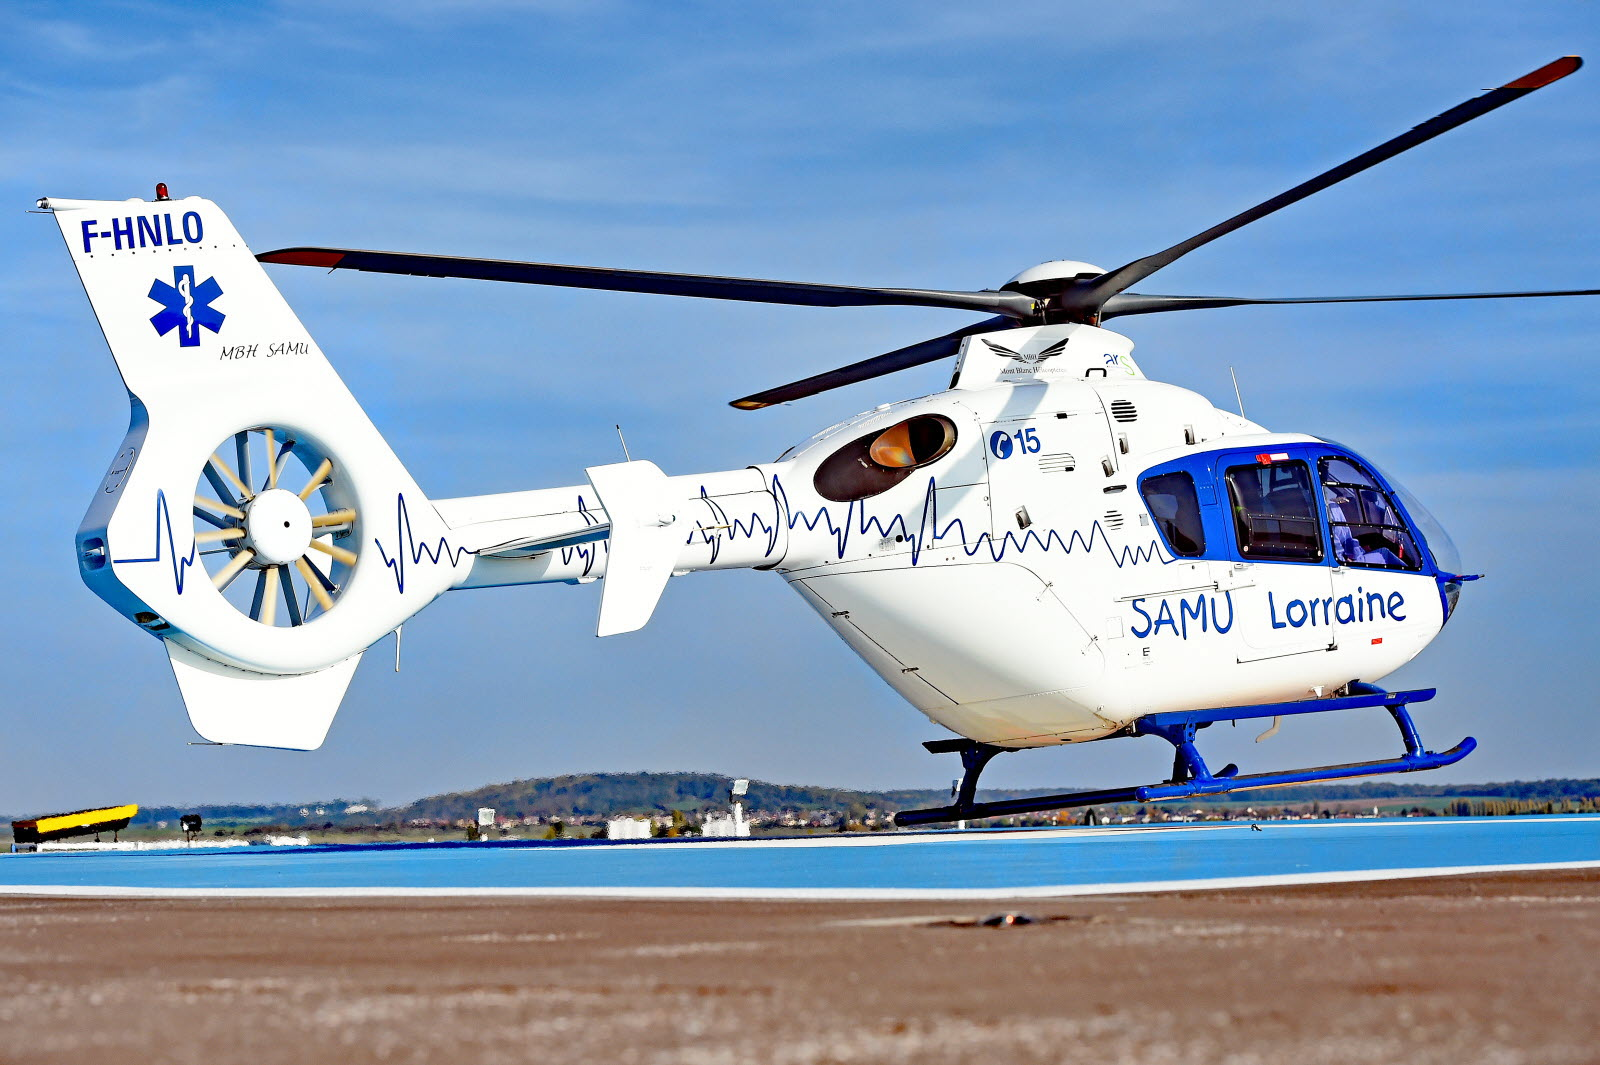Aeronef_de_service: (19, 45, 1600, 839)
